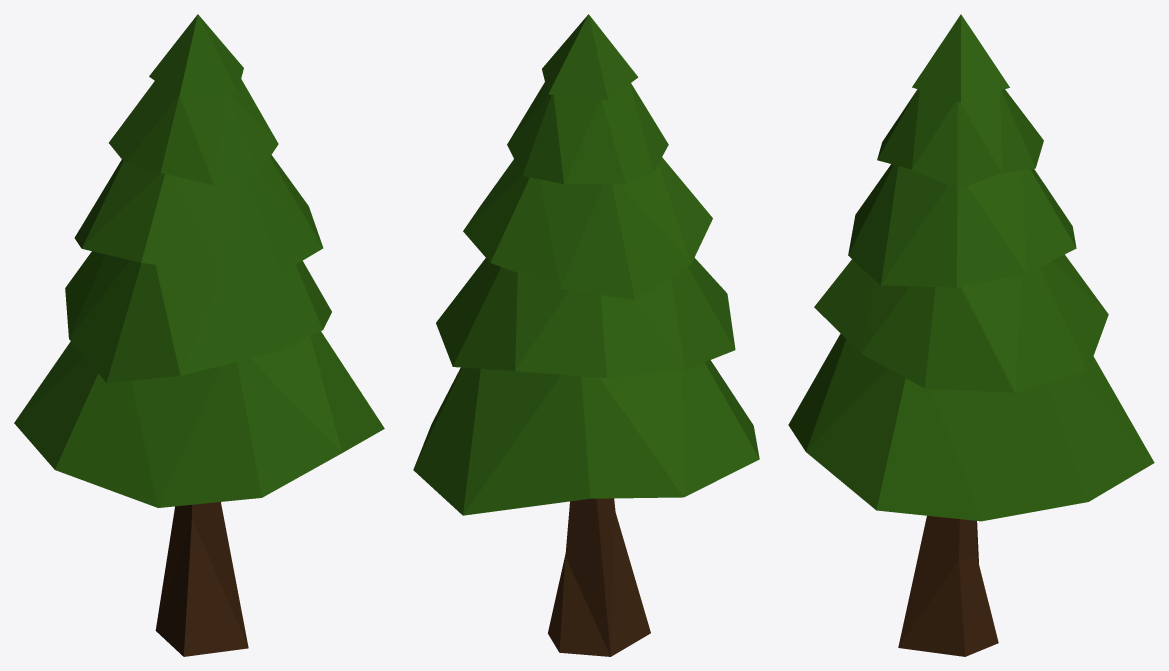
Rendered from PineTree.FBX.
The picture shows the model from 3 angles, left to right: view 1: azimuth 30°, elevation 25°; view 2: azimuth 150°, elevation 25°; view 3: azimuth 270°, elevation 25°; orthographic projection.
Parts seen in each view (by area): view 1: Object001; view 2: Object001; view 3: Object001.
Part boxes in pixels (x1,y1,x2,y2): Object001: [14, 14, 384, 656]; Object001: [413, 14, 759, 656]; Object001: [788, 14, 1154, 656].
Bounding box in the file's own units: 214 × 418 × 222.
